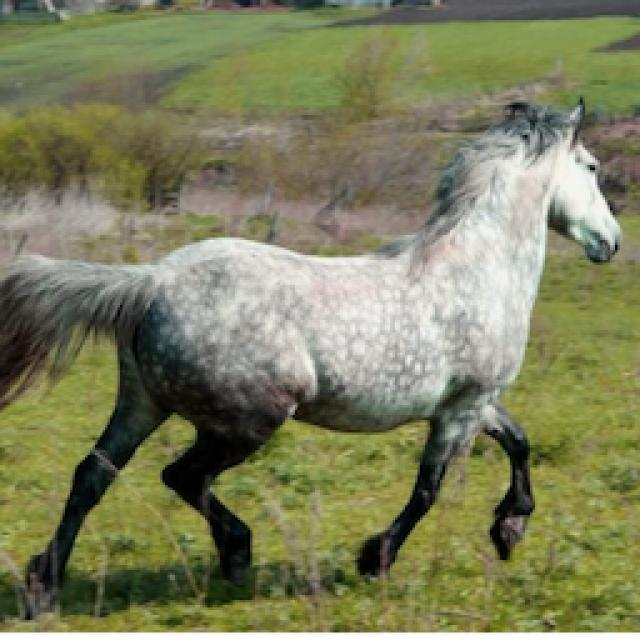Horse: (2, 90, 630, 618)
